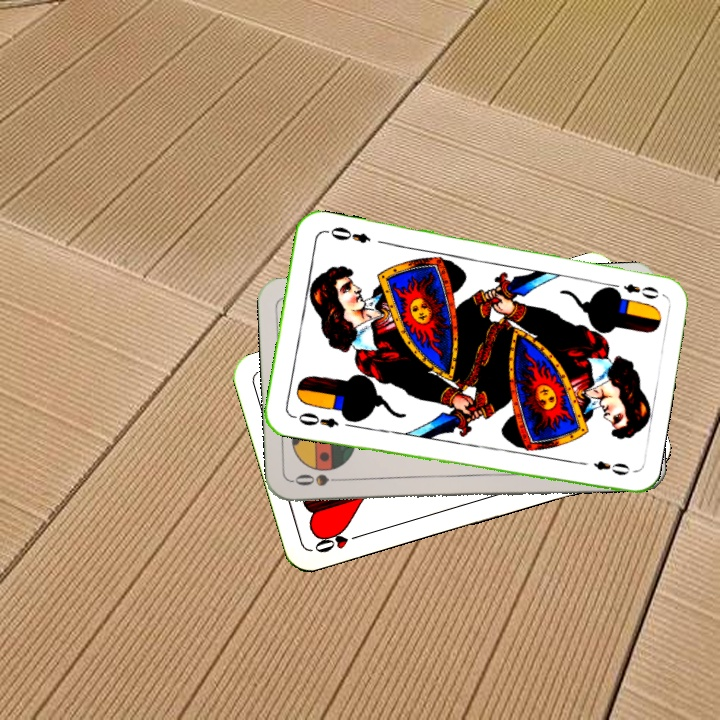EO: (605, 279, 662, 302), (288, 408, 341, 431)
HO: (310, 528, 367, 556)
SO: (290, 470, 349, 488)
